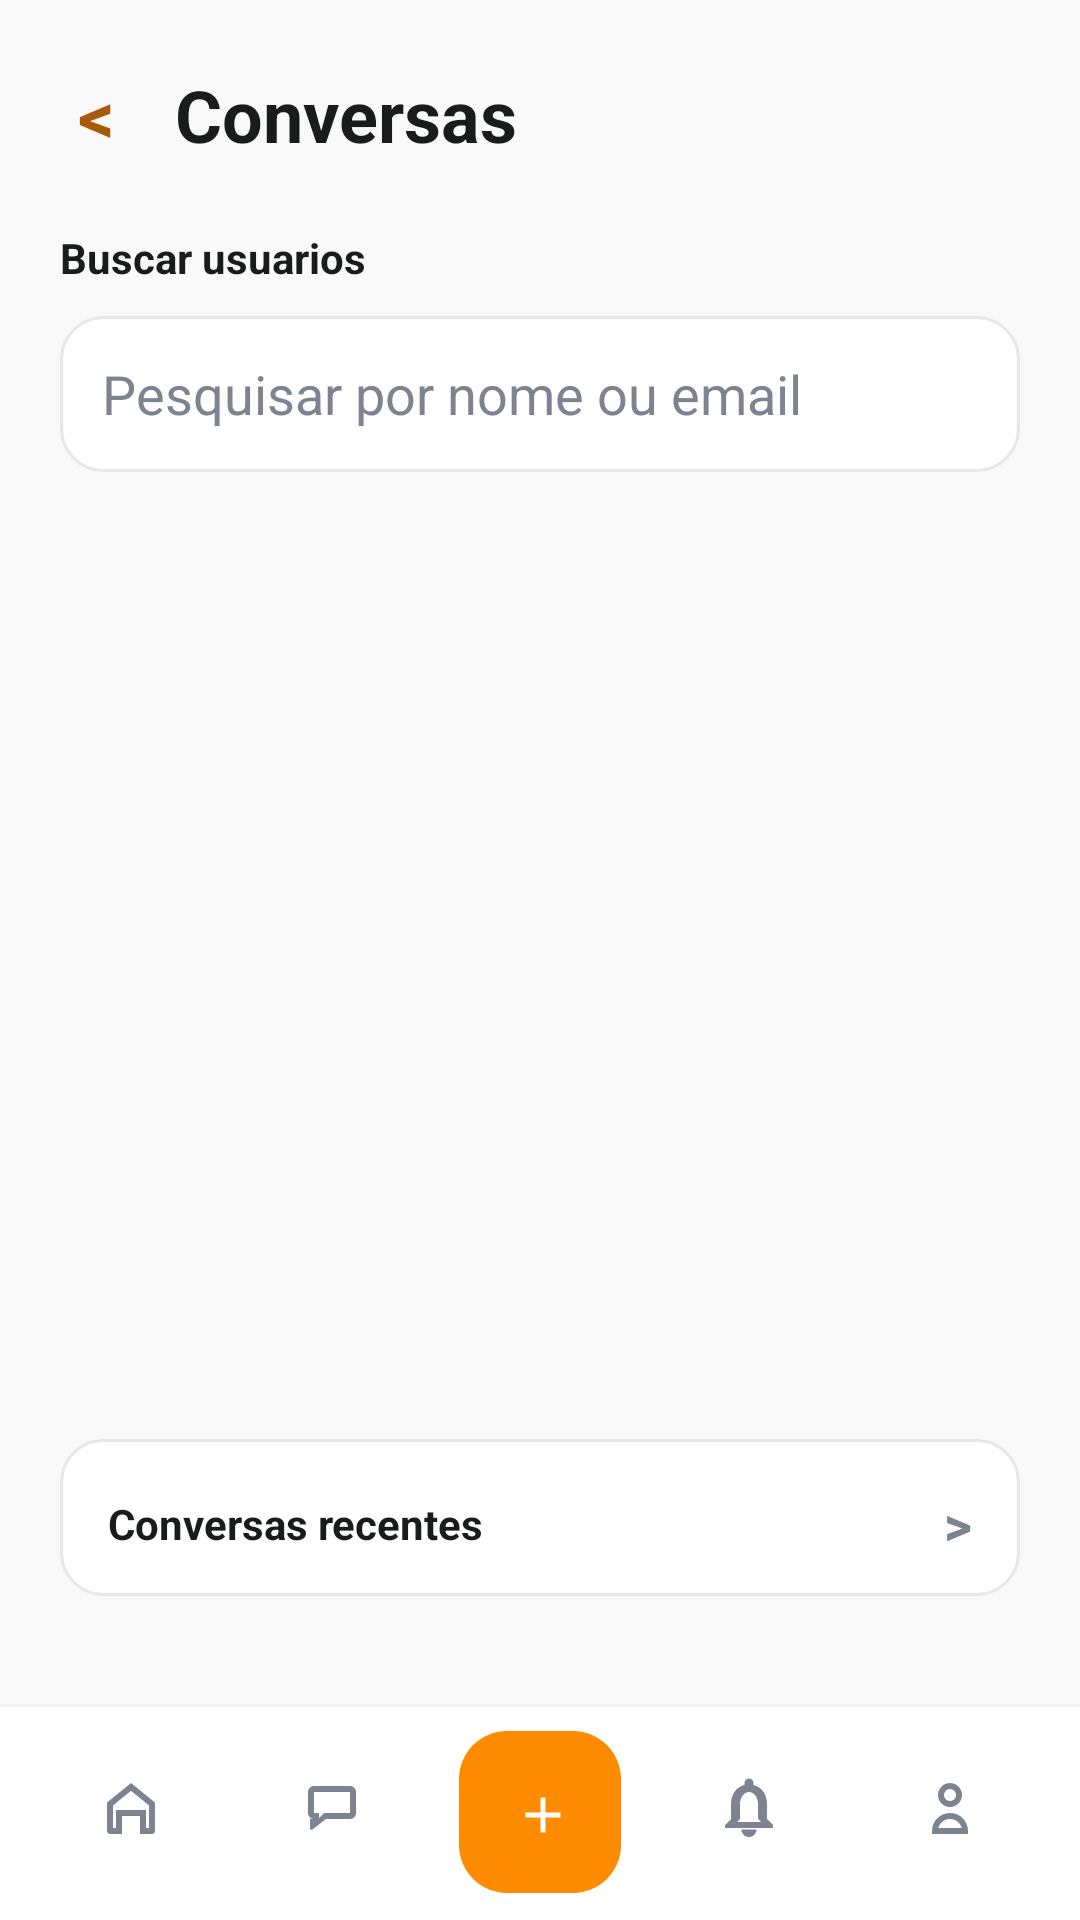

Screen size 1080px x 1920px. Icon name, then its center in pixels as (x,y):
Abrir conversas: (332,1808)
Abrir feed: (131,1808)
Abrir notificacoes: (749,1807)
Abrir perfil: (950,1808)
Criar Post: (540,1812)
